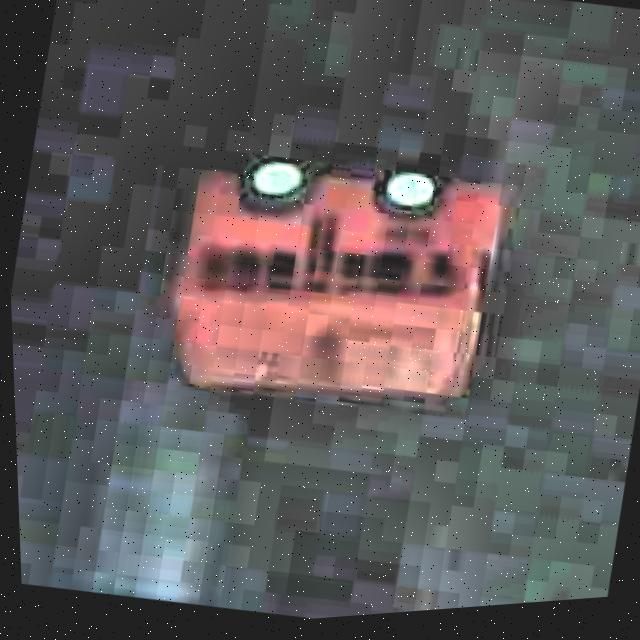bus: (146, 110, 527, 452)
